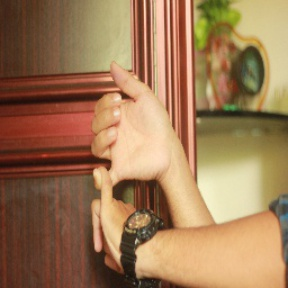S: (84, 59, 178, 279)
